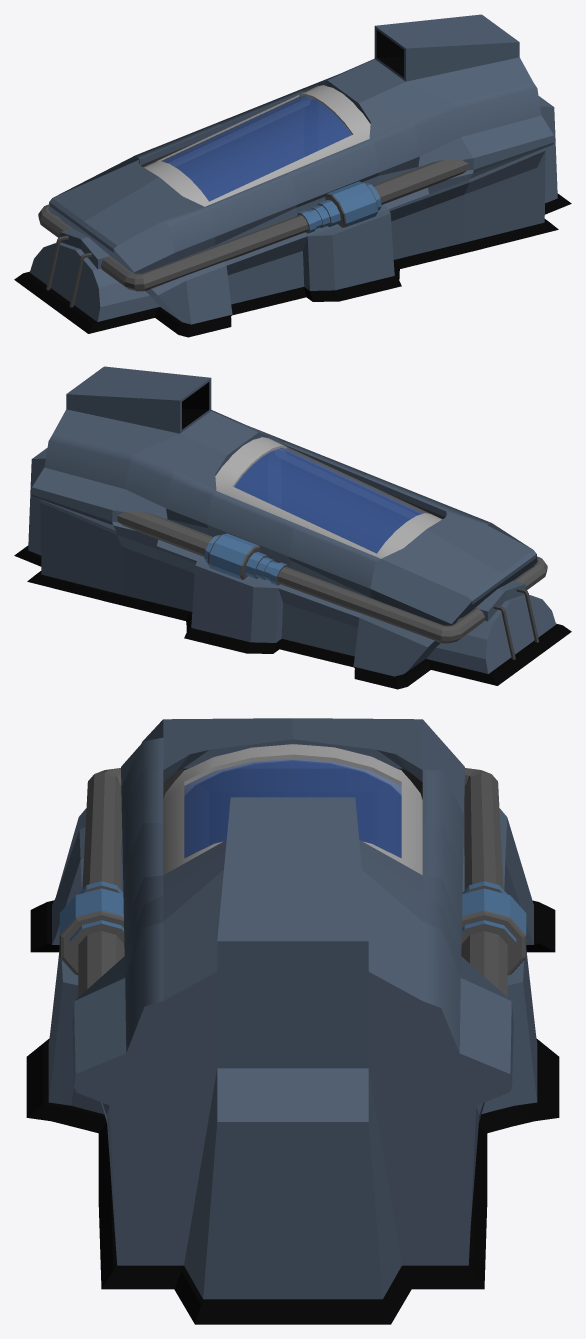
File: SM_decor_sleepcapsuleblue.fbx
The picture shows the model from 3 angles, top to bottom: view 1: azimuth 30°, elevation 25°; view 2: azimuth 150°, elevation 25°; view 3: azimuth 270°, elevation 25°; orthographic projection. The views are drawn at different scales.
Visible parts, largest first — view 1: polySurface1, pPipe1; view 2: polySurface1, pPipe1; view 3: polySurface1, pPipe1.
Boxes of the visible parts, <box> form: polySurface1: <box>14,14,571,337</box>; pPipe1: <box>143,85,370,206</box>; polySurface1: <box>14,366,571,689</box>; pPipe1: <box>215,437,442,558</box>; polySurface1: <box>26,718,559,1324</box>; pPipe1: <box>163,744,422,874</box>.
Bounding box in the file's own units: 41.13 × 14.81 × 19.11.
